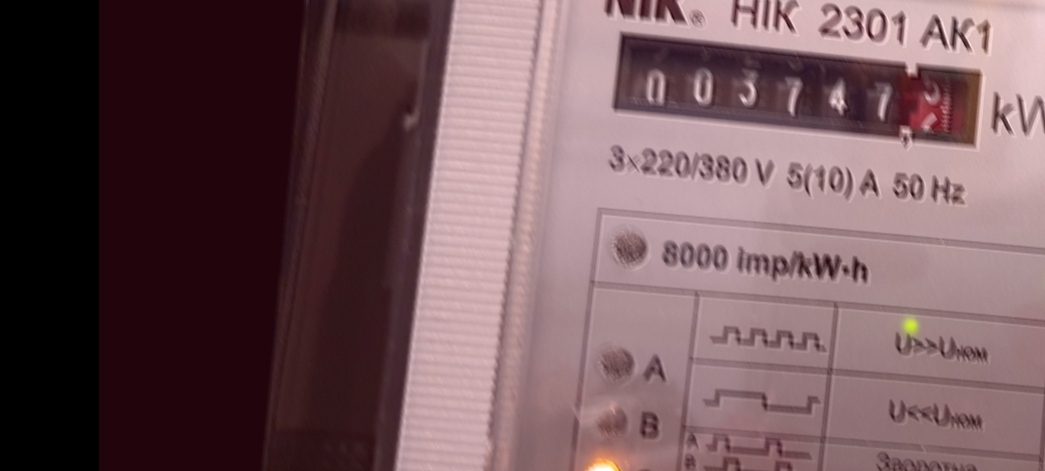0: (693, 66, 717, 106), (645, 68, 670, 105)
3: (739, 68, 761, 107)
4: (828, 75, 851, 117)
5: (922, 75, 944, 105)
6: (920, 110, 940, 133)
7: (871, 80, 897, 121), (782, 75, 805, 116)
screen: (603, 22, 1000, 163)
